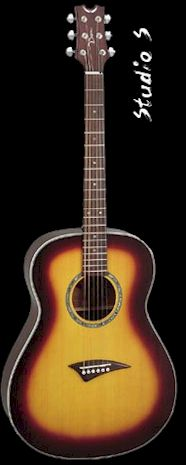guitar: (1, 7, 179, 460)
